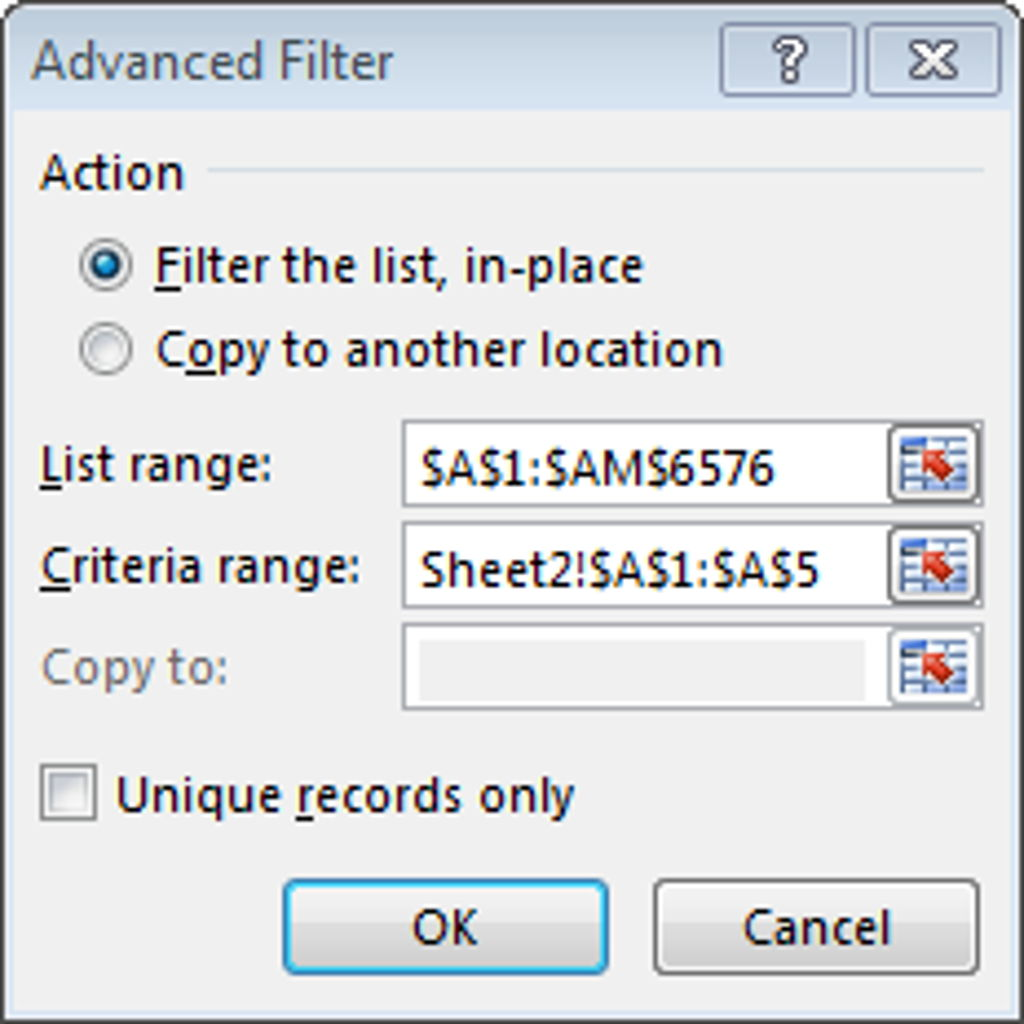button: (282, 876, 610, 978), (652, 876, 982, 977), (718, 21, 857, 98), (865, 21, 1003, 97), (889, 624, 986, 709), (885, 421, 984, 504), (889, 522, 984, 607), (36, 760, 102, 830), (76, 234, 135, 296), (77, 318, 134, 377)
common: (155, 324, 725, 379), (152, 240, 648, 295), (107, 767, 580, 824), (33, 540, 366, 599), (35, 438, 277, 497), (35, 639, 234, 696)
container: (1, 109, 1015, 1024), (2, 1, 1024, 109), (71, 308, 735, 385), (72, 228, 658, 304), (34, 758, 589, 828)
header: (23, 29, 401, 93), (34, 144, 194, 201)
table: (20, 413, 1000, 724)
table-cell: (392, 617, 1000, 721), (391, 513, 998, 616), (392, 413, 997, 513), (20, 616, 392, 723), (20, 514, 391, 616), (21, 413, 391, 513)
table-row: (22, 616, 1001, 723), (21, 515, 998, 617), (20, 413, 998, 514)
text-input: (401, 521, 888, 608), (401, 623, 888, 710), (403, 421, 883, 504)
